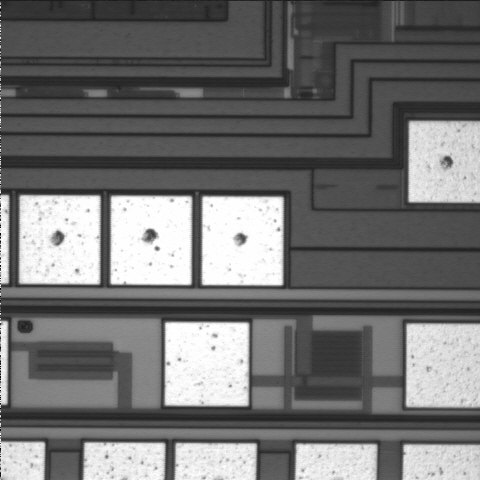pad: (19, 195, 100, 284), (111, 196, 192, 285), (202, 196, 283, 285), (165, 322, 249, 406)
